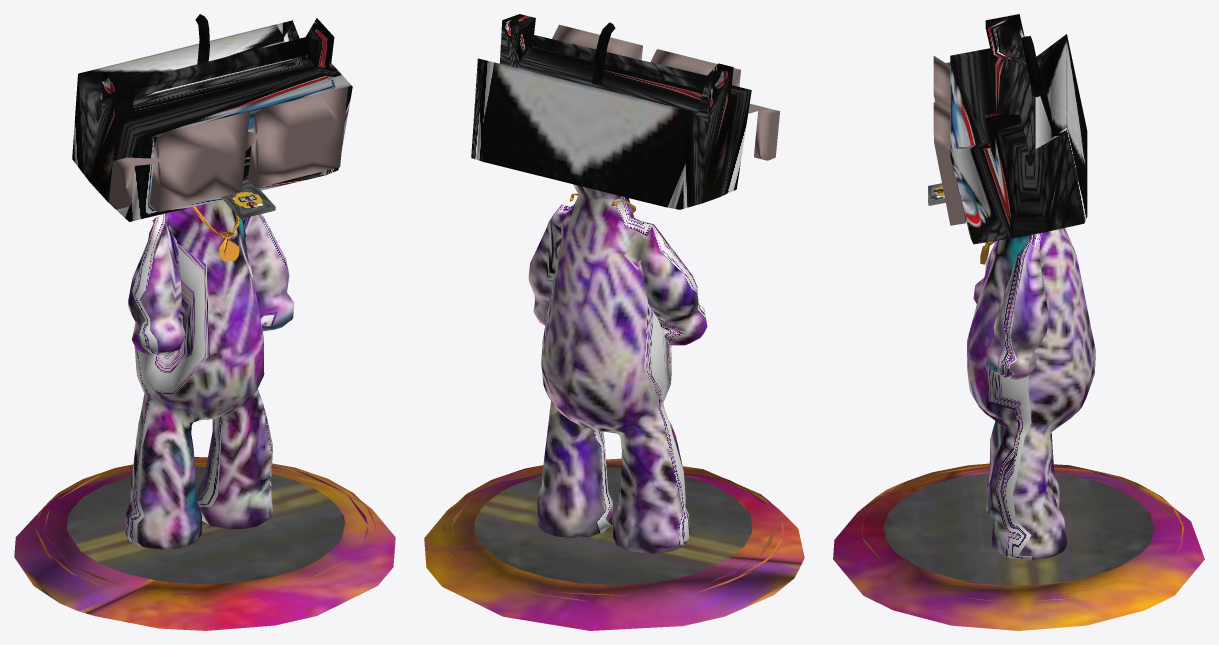
3 renders of one model, left to right at view 1: azimuth 30°, elevation 25°; view 2: azimuth 150°, elevation 25°; view 3: azimuth 270°, elevation 25°, orthographic. The views are drawn at different scales.
Bounding box in the file's own units: 1.45 × 2.21 × 1.44.
11 materials, 7 textured.
